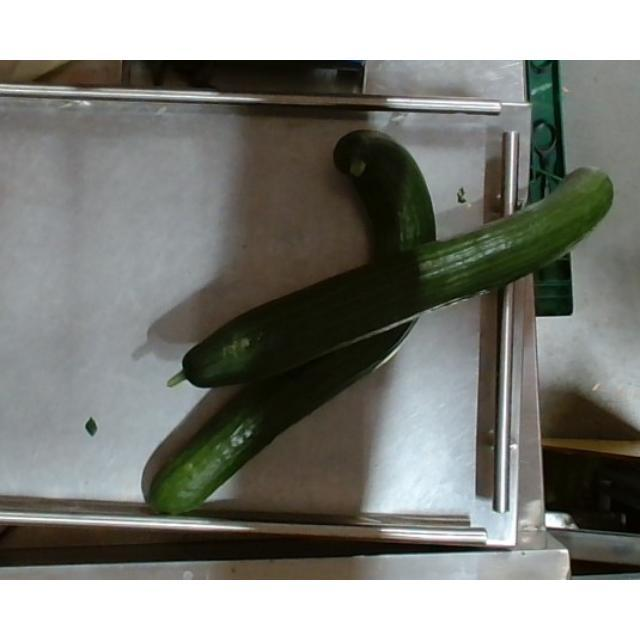cucumber: (149, 129, 437, 515), (165, 169, 615, 389)
